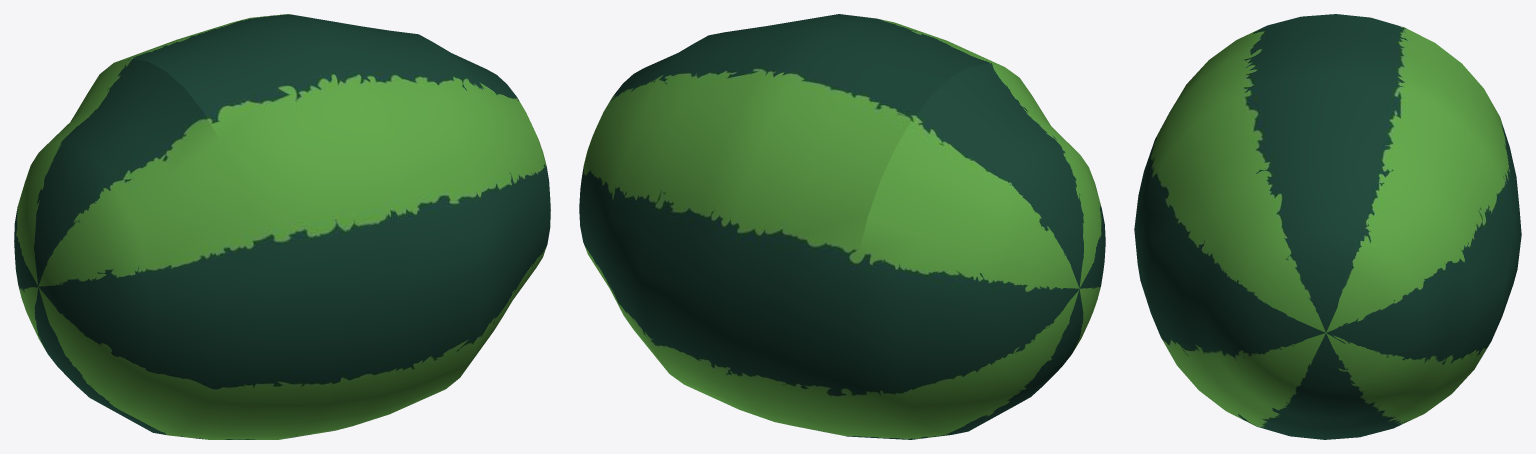
The model's file is watermelon.glb.
3 views of the same model, side by side, from view 1: azimuth 30°, elevation 25°; view 2: azimuth 150°, elevation 25°; view 3: azimuth 270°, elevation 25° (orthographic). The views are drawn at different scales.
Visible parts, largest first — view 1: Sphere; view 2: Sphere; view 3: Sphere.
Boxes of the visible parts, x1=… form: Sphere: x1=14, y1=14, x2=550, y2=439; Sphere: x1=579, y1=14, x2=1105, y2=439; Sphere: x1=1134, y1=14, x2=1521, y2=439.
Size of the model in its own units: 2.64 by 2 by 2.
1 material, 1 textured.
